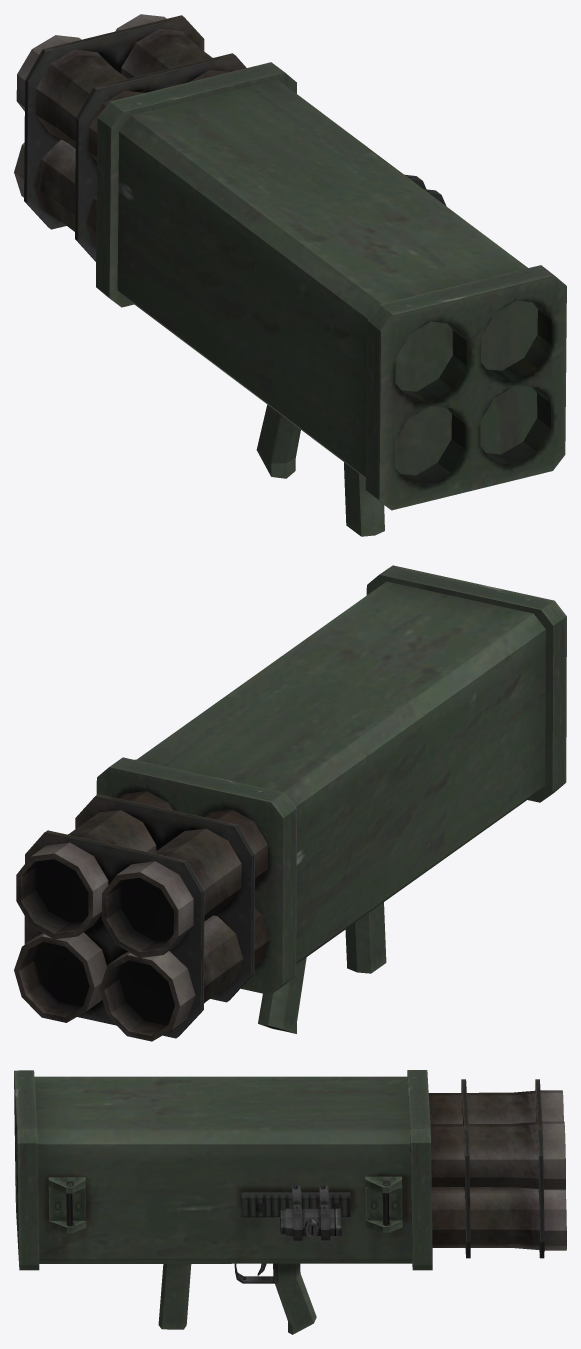
3 renders of one model, top to bottom at view 1: azimuth 30°, elevation 25°; view 2: azimuth 150°, elevation 25°; view 3: azimuth 270°, elevation 25°, orthographic. The views are drawn at different scales.
Visible parts, largest first — view 1: Object_000_Mesh_000_Material_976ce44c_dds; view 2: Object_000_Mesh_000_Material_976ce44c_dds; view 3: Object_000_Mesh_000_Material_976ce44c_dds.
Boxes of the visible parts, x1,y1,x2,y2 form: Object_000_Mesh_000_Material_976ce44c_dds: (14,14,566,536); Object_000_Mesh_000_Material_976ce44c_dds: (14,565,566,1041); Object_000_Mesh_000_Material_976ce44c_dds: (14,1070,566,1334).
Size of the model in its own units: 0.00811 by 0.0096 by 0.0205.
1 material, 1 textured.
